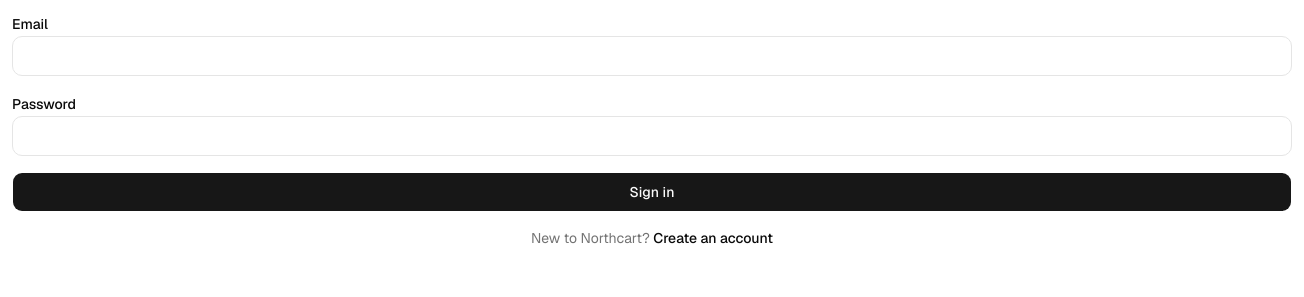
Scenario: LoginForm › shows the error from the server and keeps the email
Type "jan@example.com" into the field labelled "Email". click: (652, 56)
box: [12,36,1292,76]
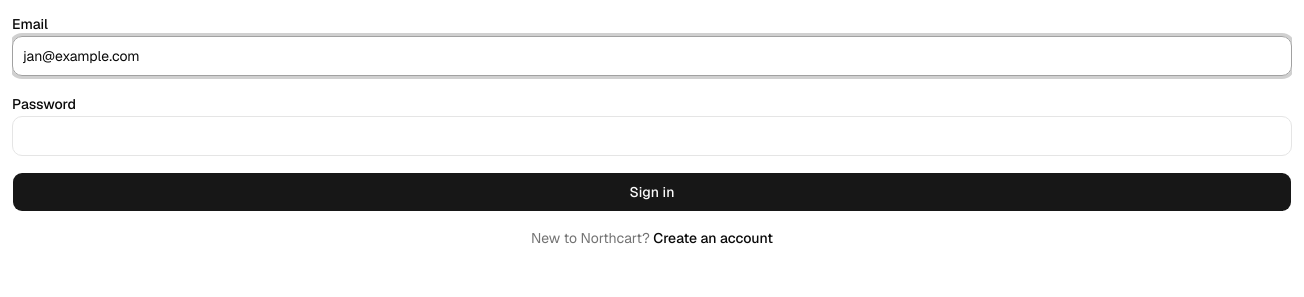
Type "wrong-pass1" into the password field labelled "Password". click: (652, 136)
box: [12,116,1292,156]
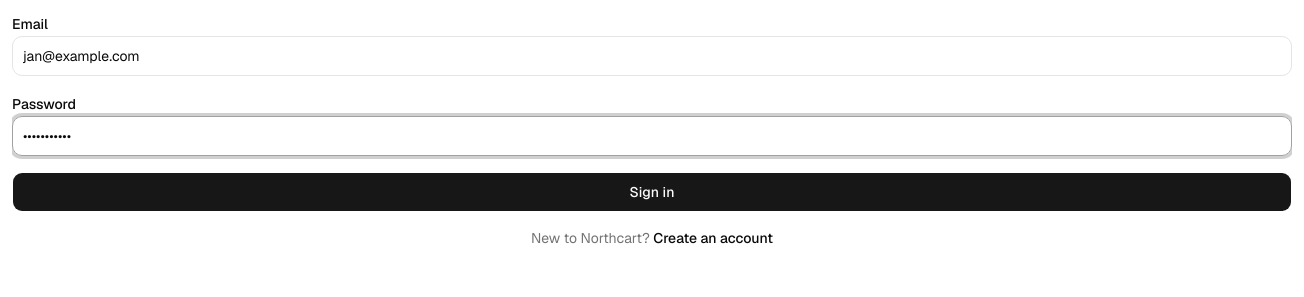
Click the button "Sign in". click: (652, 192)
box: [12,172,1292,212]
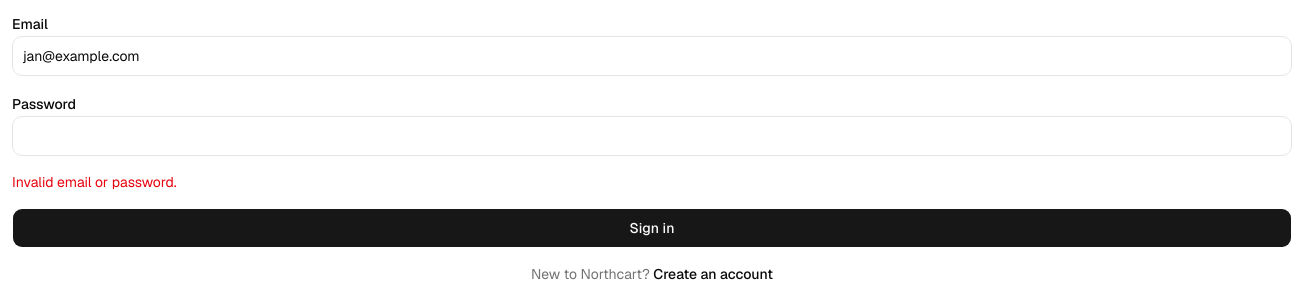
Check: the field labelled "Email" holds "jan@example.com", box [12,36,1292,76]
Check: the message reads "Invalid email or password.", box [12,173,177,191]
Check: the password field labelled "Password" is empty, box [12,116,1292,156]
